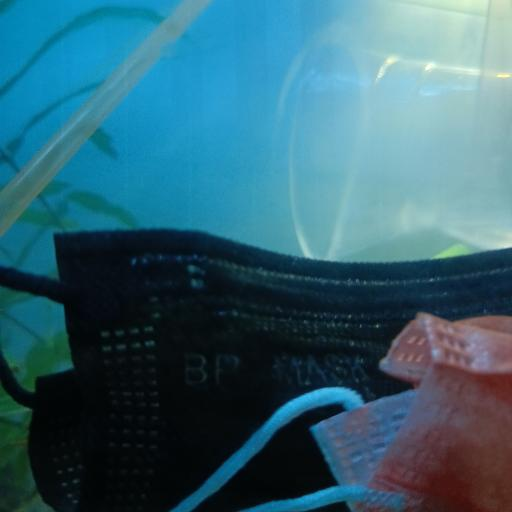mask: (0, 231, 512, 512), (168, 313, 512, 505)
plastic_cup: (276, 34, 512, 262)
plastic_straw: (2, 0, 213, 234)
